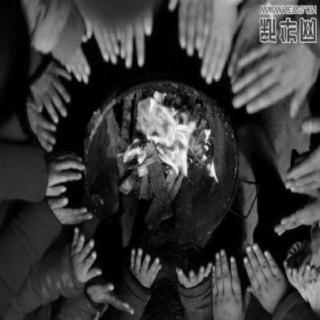Fire: (123, 90, 220, 188)
